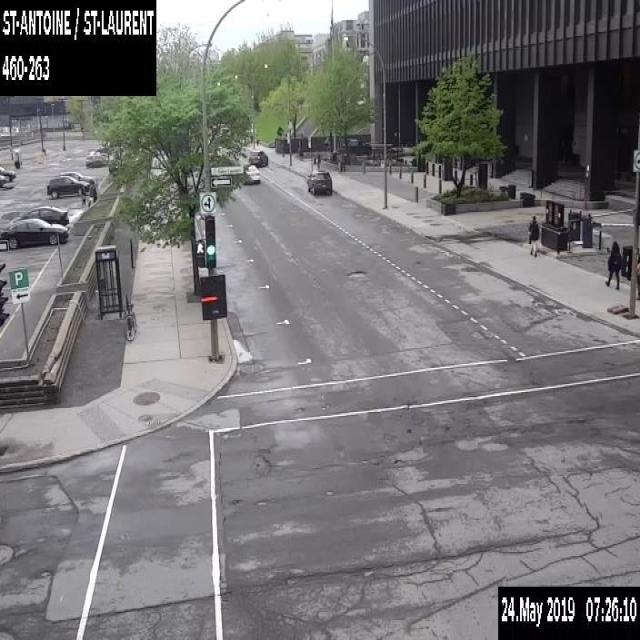construction: (276, 124, 283, 135)
pedestrian: (604, 240, 621, 290), (528, 212, 538, 256), (635, 252, 639, 300), (88, 181, 96, 202), (80, 185, 86, 205), (340, 152, 344, 170), (316, 151, 320, 168)
vehicle: (0, 218, 68, 249), (20, 204, 68, 226), (47, 174, 89, 198), (306, 170, 331, 193), (58, 170, 94, 183), (248, 148, 268, 166), (244, 163, 260, 183), (85, 150, 101, 166), (0, 164, 15, 180), (0, 173, 9, 187)
